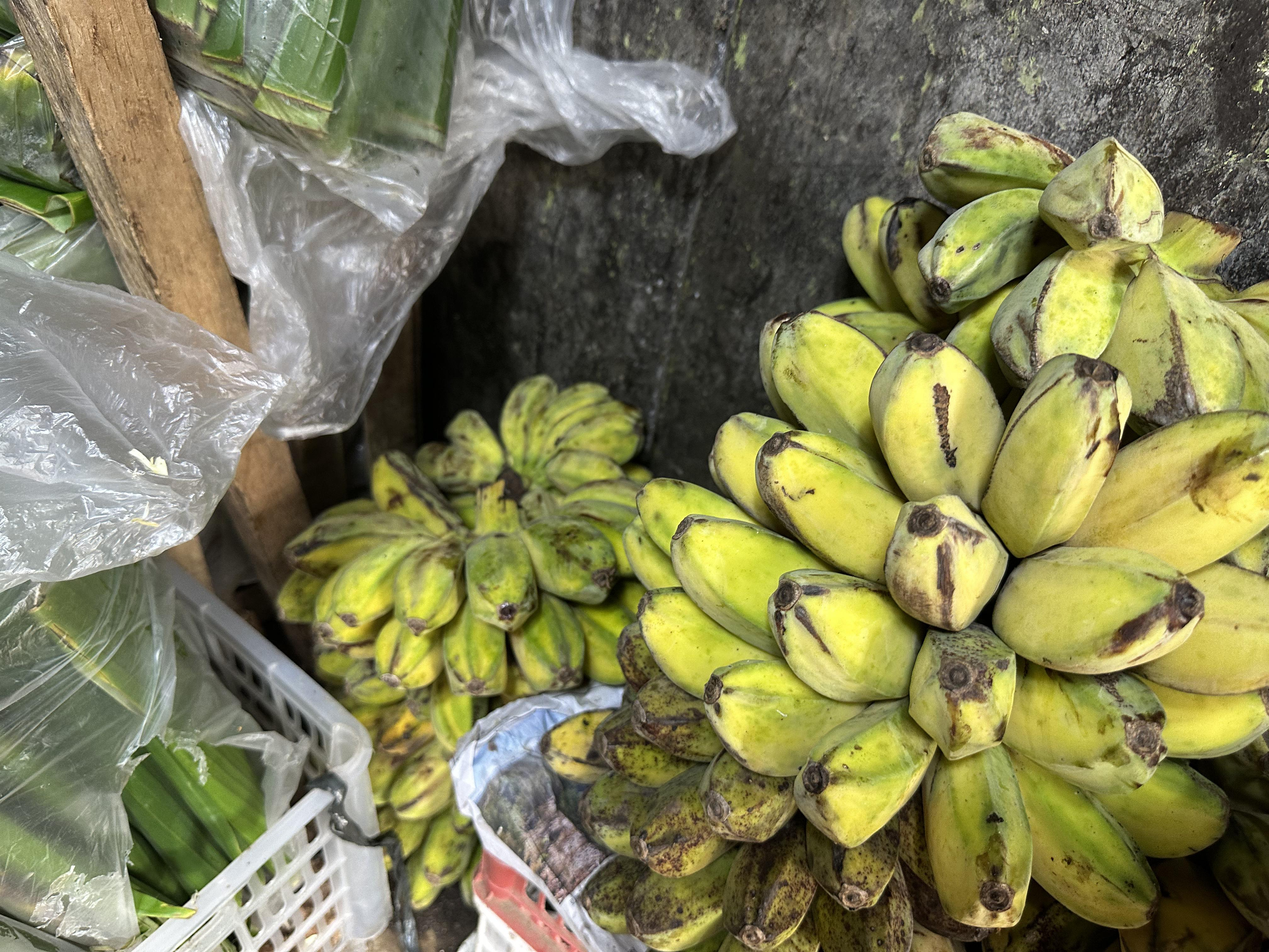underripe: (624, 479, 1269, 929), (709, 311, 1269, 694), (541, 624, 988, 952), (918, 113, 1269, 435), (280, 452, 643, 696), (416, 375, 643, 493), (814, 196, 955, 354)
